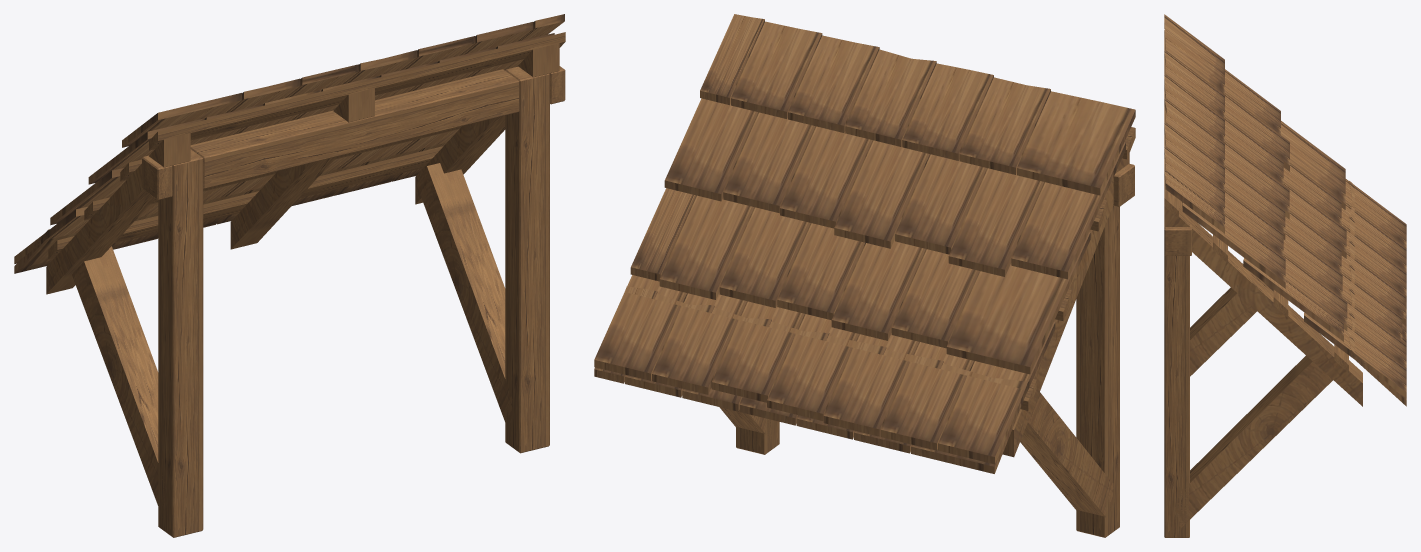
3 views of the same model, side by side, from view 1: azimuth 30°, elevation 25°; view 2: azimuth 150°, elevation 25°; view 3: azimuth 270°, elevation 25° (orthographic). The views are drawn at different scales.
Visible parts, largest first — view 1: L35_Runtime; view 2: L35_Runtime; view 3: L35_Runtime.
Boxes of the visible parts, <box> form: L35_Runtime: <box>14,14,565,537</box>; L35_Runtime: <box>594,14,1135,537</box>; L35_Runtime: <box>1164,14,1406,537</box>.
Size of the model in its own units: 200 by 201 by 122.
